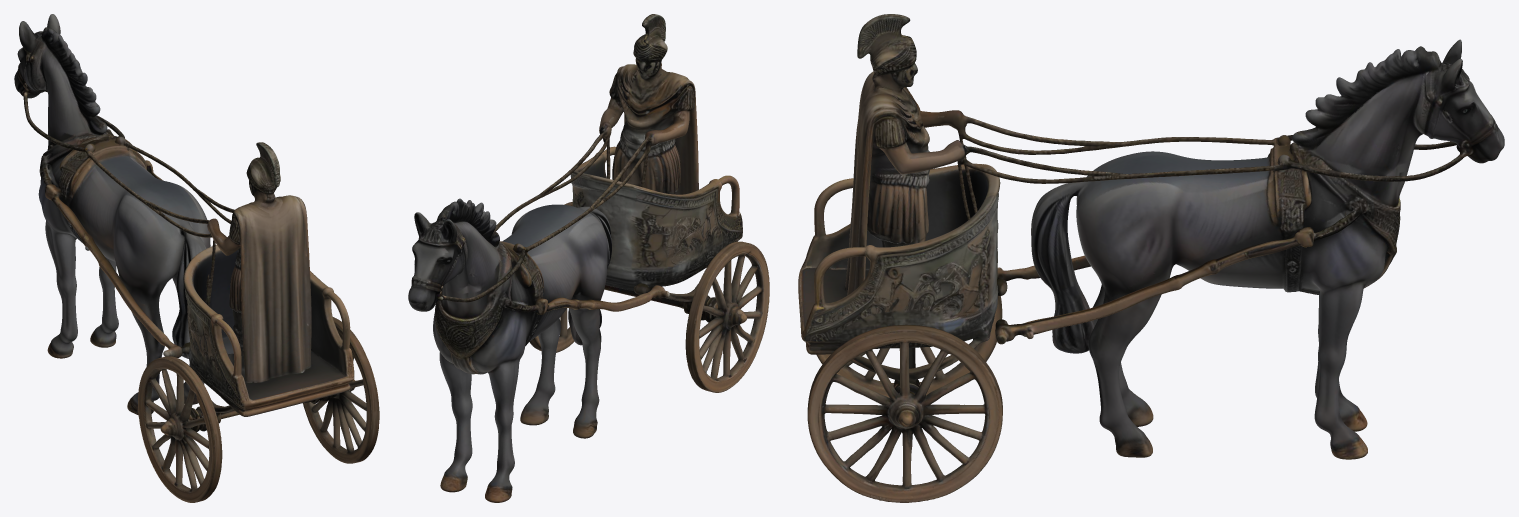
3 renders of one model, left to right at view 1: azimuth 30°, elevation 25°; view 2: azimuth 150°, elevation 25°; view 3: azimuth 270°, elevation 25°, orthographic. The views are drawn at different scales.
Parts seen in each view (by area): view 1: tripo_node_48107ada-93a9-4e35-bf46-150438e2e88d; view 2: tripo_node_48107ada-93a9-4e35-bf46-150438e2e88d; view 3: tripo_node_48107ada-93a9-4e35-bf46-150438e2e88d.
Boxes of the visible parts, x1,y1,x2,y2 form: tripo_node_48107ada-93a9-4e35-bf46-150438e2e88d: [14, 14, 379, 502]; tripo_node_48107ada-93a9-4e35-bf46-150438e2e88d: [408, 14, 769, 502]; tripo_node_48107ada-93a9-4e35-bf46-150438e2e88d: [798, 14, 1504, 502].
Size of the model in its own units: 0.4157 by 0.6808 by 1.
1 material, 1 textured.
